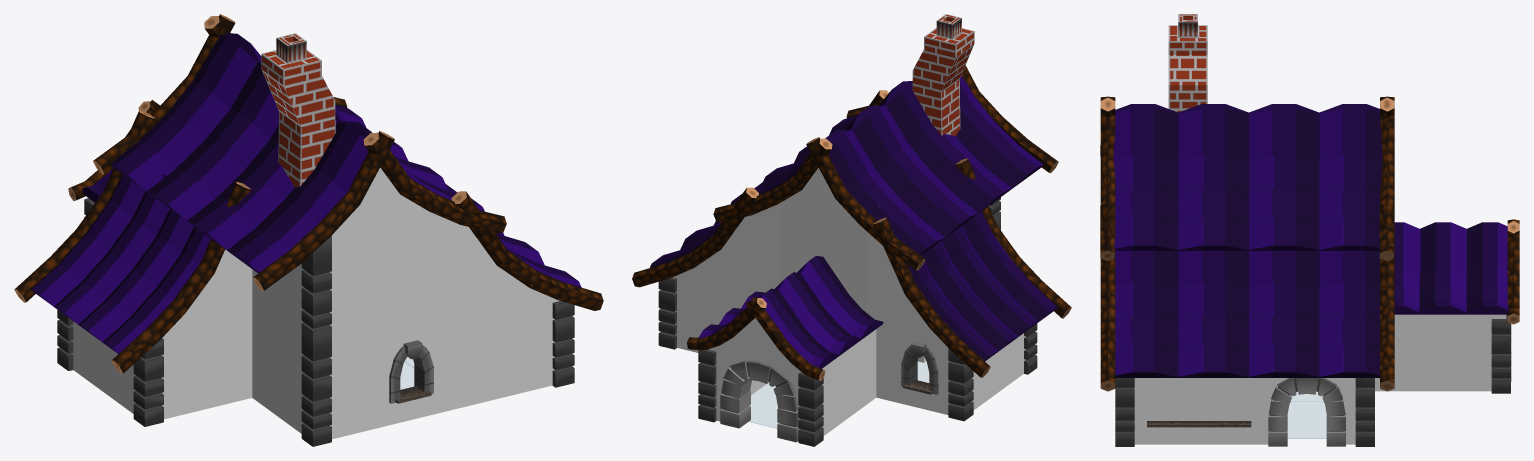
The model's file is New House.fbx.
3 renders of one model, left to right at view 1: azimuth 30°, elevation 25°; view 2: azimuth 150°, elevation 25°; view 3: azimuth 270°, elevation 25°, orthographic. The views are drawn at different scales.
Visible parts, largest first — view 1: walls, roof2, roof1, corners, cuboid, cylinder_4, cylinder_9, cylinder_8, cylinder_5, cylinder_6, roof3, cylinder_2 (+2 smaller); view 2: walls, roof2, roof1, roof, corners, cuboid, Doorway, cylinder_6, cylinder_7, cylinder_2, cylinder_3, roof3 (+7 smaller); view 3: roof3, roof4, walls, roof, corners, shop window, cuboid, Doorway_1, cylinder_8, cylinder_7, cylinder_5, cylinder_3 (+4 smaller).
Boxes of the visible parts, x1,y1,x2,y2 form: walls: (68, 167, 559, 439); roof2: (110, 34, 368, 273); roof1: (31, 174, 210, 353); corners: (57, 198, 574, 446); cuboid: (261, 33, 335, 187); cylinder_4: (252, 131, 394, 291); cylinder_9: (111, 181, 251, 373); cylinder_8: (451, 191, 603, 310); cylinder_5: (363, 132, 506, 233); cylinder_6: (14, 110, 154, 302); roof3: (225, 33, 484, 211); cylinder_2: (93, 14, 235, 174); walls: (672, 168, 1027, 435); roof2: (828, 75, 1043, 255); roof1: (907, 198, 1057, 361); roof: (698, 256, 883, 368); corners: (658, 197, 1037, 446); cuboid: (912, 14, 974, 135); Doorway: (720, 360, 798, 442); cylinder_6: (873, 217, 990, 377); cylinder_7: (632, 187, 758, 287); cylinder_2: (806, 137, 925, 270); cylinder_3: (713, 138, 832, 222); roof3: (731, 81, 912, 204); roof3: (1113, 108, 1382, 250); roof4: (1115, 250, 1379, 377); walls: (1134, 314, 1506, 444); roof: (1394, 222, 1509, 314); corners: (1115, 314, 1510, 446); shop window: (1147, 383, 1251, 420); cuboid: (1168, 14, 1207, 112); Doorway_1: (1268, 378, 1345, 446); cylinder_8: (1100, 204, 1115, 391); cylinder_7: (1380, 204, 1394, 391); cylinder_5: (1100, 96, 1115, 260); cylinder_3: (1379, 96, 1394, 260).
Size of the model in its own units: 1106 by 925 by 1079.
8 materials, 8 textured.
